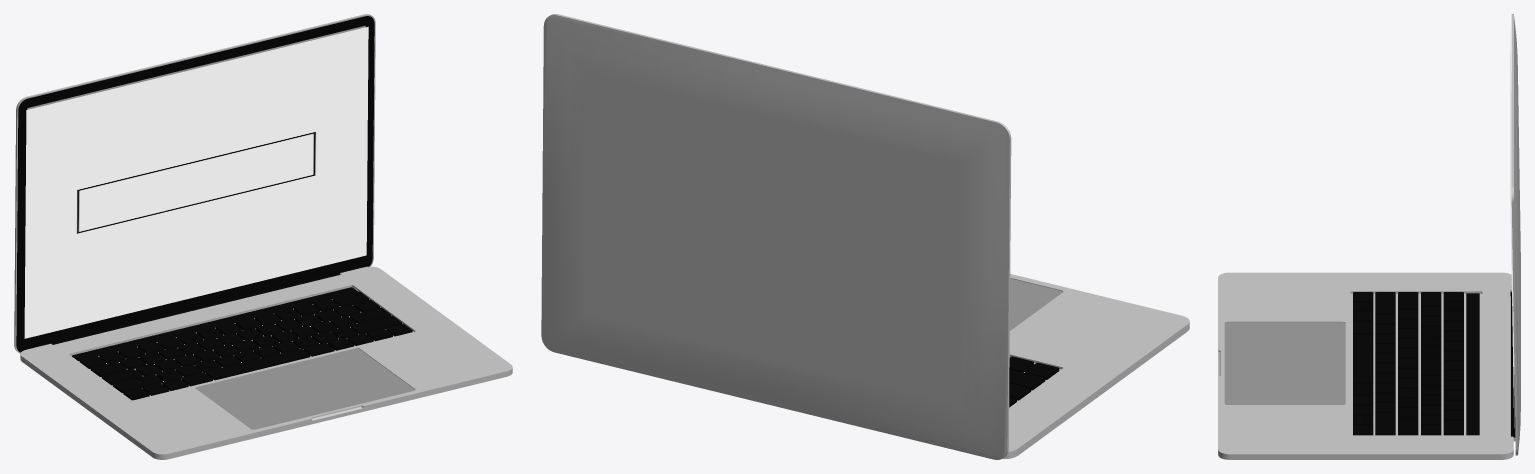
The model's file is laptop.glb.
The picture shows the model from 3 angles, left to right: view 1: azimuth 30°, elevation 25°; view 2: azimuth 150°, elevation 25°; view 3: azimuth 270°, elevation 25°; orthographic projection. The views are drawn at different scales.
Parts seen in each view (by area): view 1: Plane, Cube002, keyboard, Cube008_1, Cube002_1, Cube008, touchbar; view 2: Cube008, Cube002, Cube002_1, keyboard; view 3: Cube002, keyboard, Cube002_1, Cube008, touchbar, Plane, Cube008_1.
Boxes of the visible parts, bbox=[...] form: Plane: bbox=[24, 26, 368, 338]; Cube002: bbox=[20, 266, 512, 459]; keyboard: bbox=[79, 291, 412, 400]; Cube008_1: bbox=[16, 16, 374, 352]; Cube002_1: bbox=[195, 348, 414, 429]; Cube008: bbox=[14, 14, 375, 353]; touchbar: bbox=[72, 287, 358, 360]; Cube008: bbox=[541, 14, 1011, 459]; Cube002: bbox=[1002, 274, 1189, 458]; Cube002_1: bbox=[1009, 278, 1062, 330]; keyboard: bbox=[1009, 356, 1059, 407]; Cube002: bbox=[1218, 272, 1513, 459]; keyboard: bbox=[1353, 292, 1463, 435]; Cube002_1: bbox=[1224, 322, 1345, 404]; Cube008: bbox=[1511, 14, 1520, 455]; touchbar: bbox=[1466, 293, 1479, 435]; Plane: bbox=[1510, 31, 1514, 427]; Cube008_1: bbox=[1510, 292, 1515, 437].
Size of the model in its own units: 8.81 by 6.16 by 6.2.
7 materials, 1 textured.
